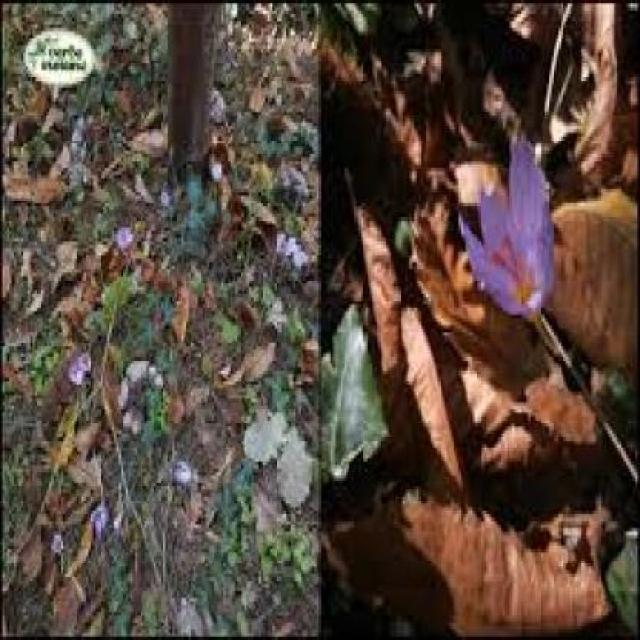Flower: (455, 140, 557, 318)
